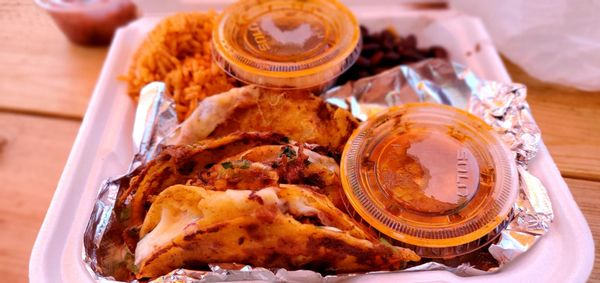sushi: (338, 102, 518, 253)
